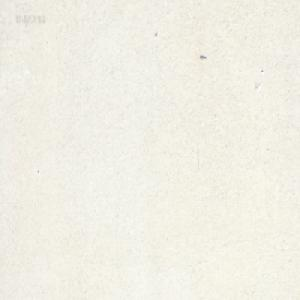Nail: (199, 53, 206, 58)
